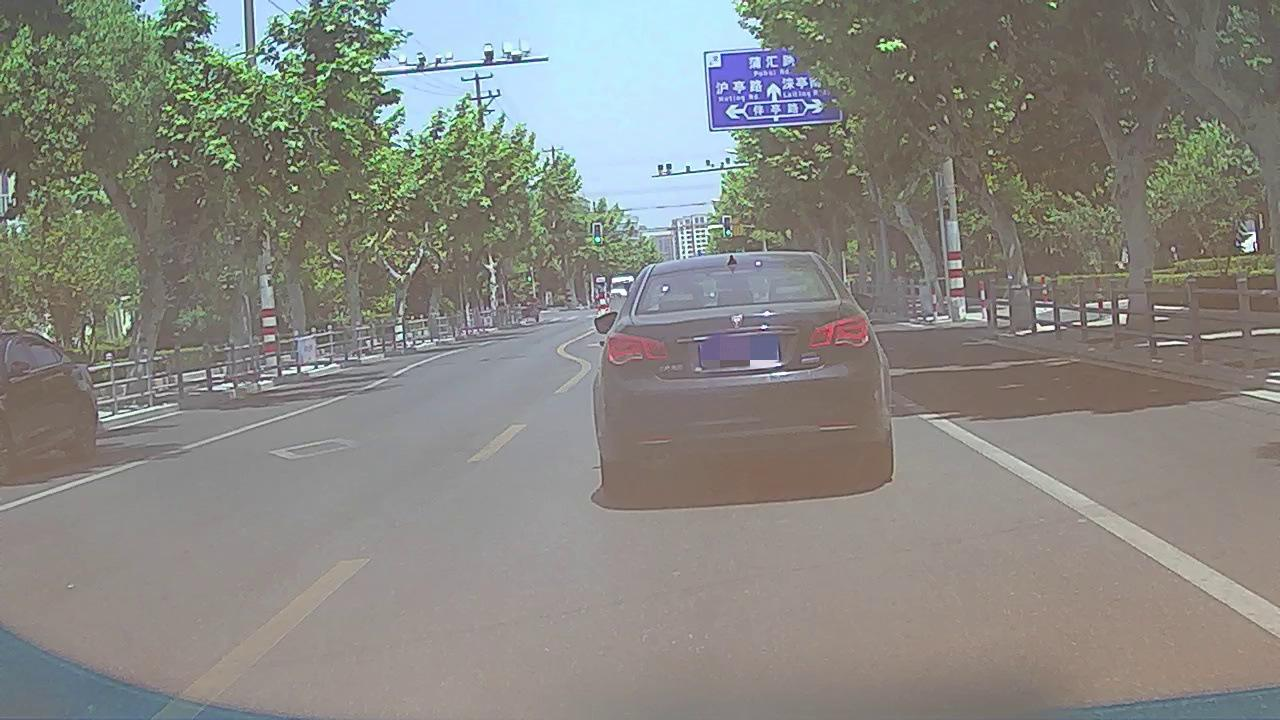traffic_light: (723, 216, 733, 237), (594, 223, 603, 244)
